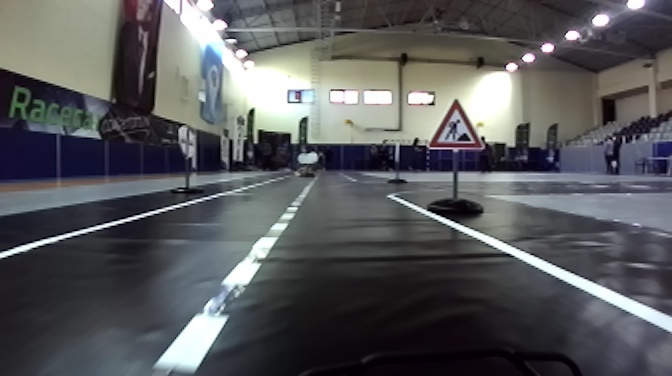yol_yapimi: (426, 96, 488, 152)
